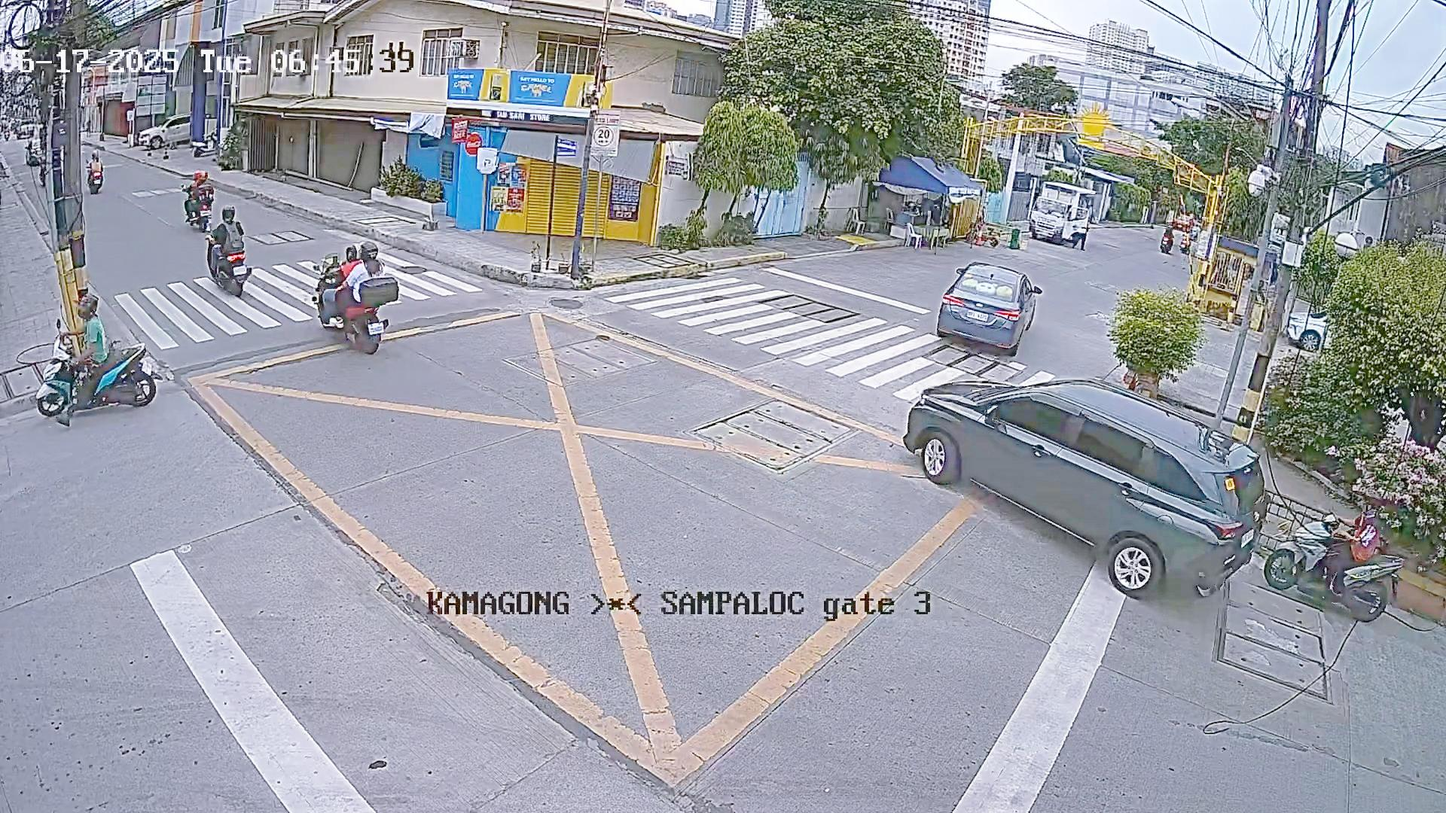Car: (886, 349, 1281, 627), (890, 245, 1056, 348)
Motor: (10, 287, 200, 428), (277, 222, 423, 383), (1274, 489, 1408, 645), (195, 210, 265, 327), (166, 162, 221, 226), (78, 141, 130, 208), (1150, 212, 1182, 256)
